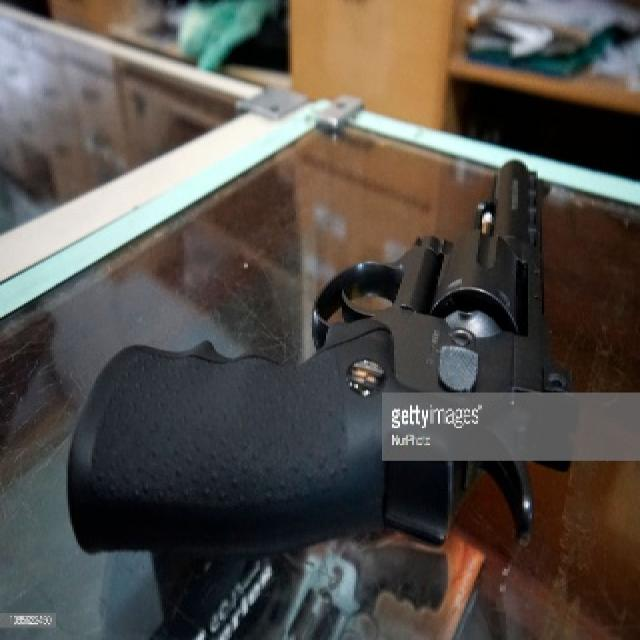handgun: (59, 155, 551, 554)
